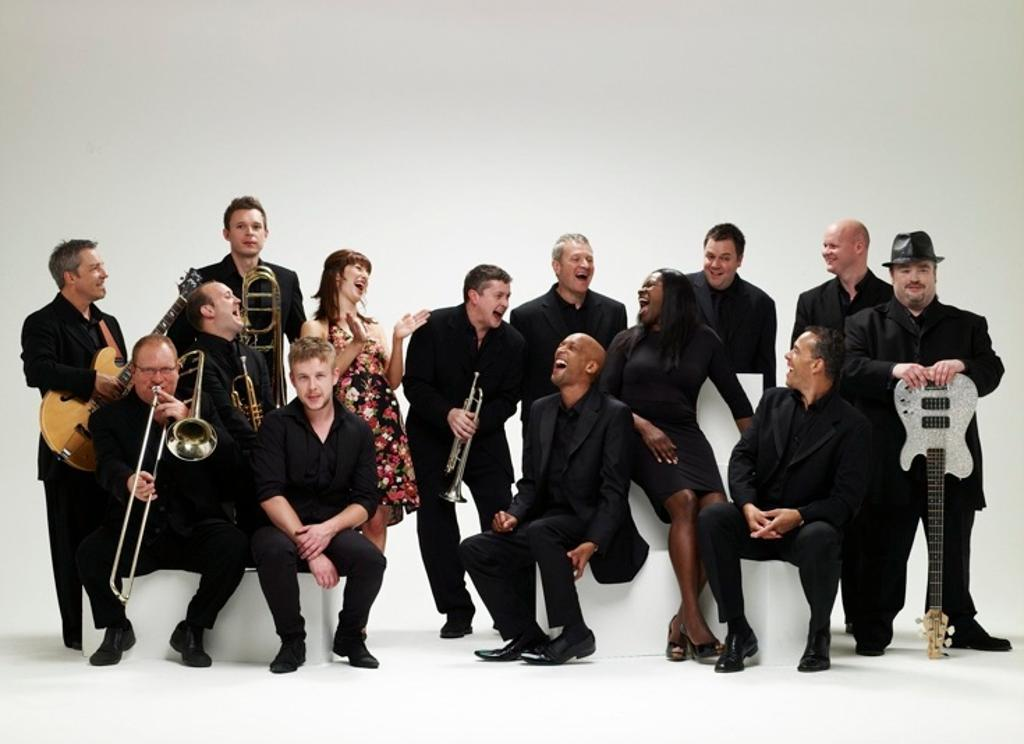face: (135, 346, 178, 404), (293, 360, 332, 410), (894, 253, 933, 299), (228, 207, 265, 254), (73, 249, 108, 297), (561, 242, 594, 292), (783, 338, 815, 387), (703, 240, 736, 287), (550, 339, 584, 383), (478, 282, 511, 327), (823, 226, 855, 271), (211, 287, 241, 333), (637, 276, 666, 322), (339, 262, 369, 300)
